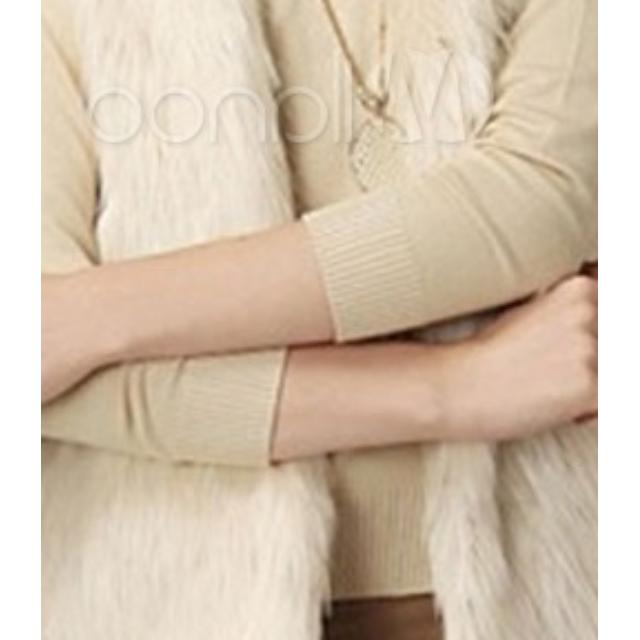polyester: (41, 0, 598, 244)
